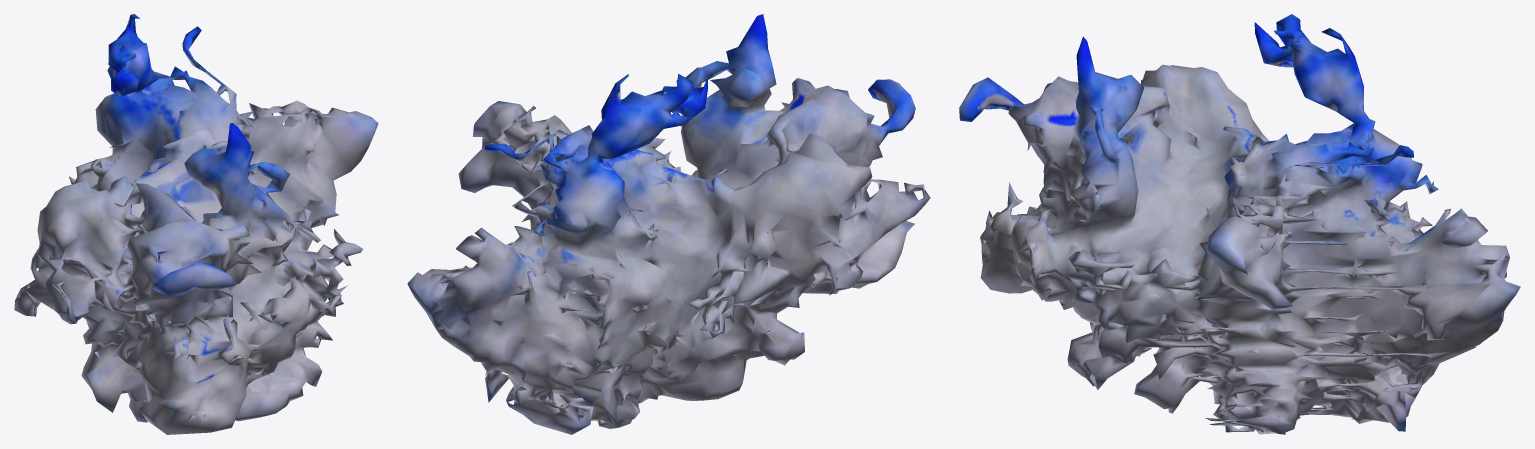
Rendered from anicloud.glb.
The picture shows the model from 3 angles, left to right: view 1: azimuth 30°, elevation 25°; view 2: azimuth 150°, elevation 25°; view 3: azimuth 270°, elevation 25°; orthographic projection. The views are drawn at different scales.
Parts seen in each view (by area): view 1: mesh; view 2: mesh; view 3: mesh.
Boxes of the visible parts, box(x1,y1,x2,y2) form: mesh: box(14, 14, 378, 434); mesh: box(407, 14, 930, 434); mesh: box(959, 14, 1520, 434).
Size of the model in its own units: 0.8304 by 0.7346 by 0.999.
Materials: 1 (1 with a texture image).
